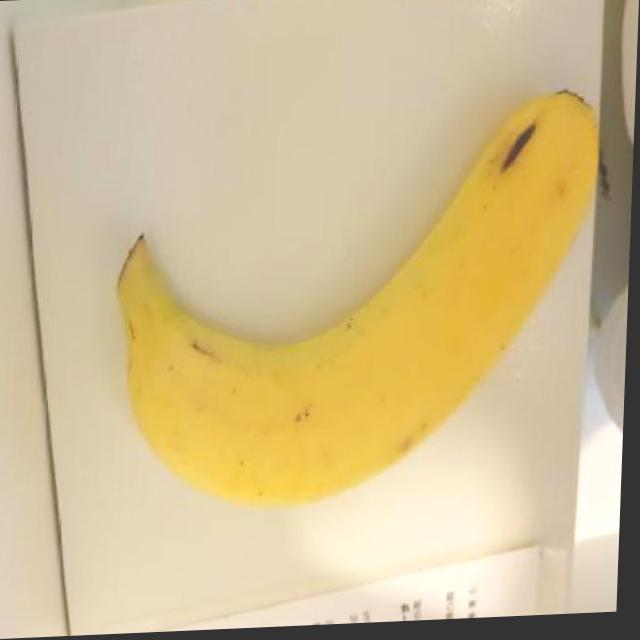banana: (99, 71, 601, 520)
